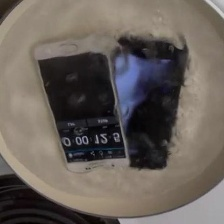phone: (89, 28, 191, 173), (27, 33, 131, 174)
